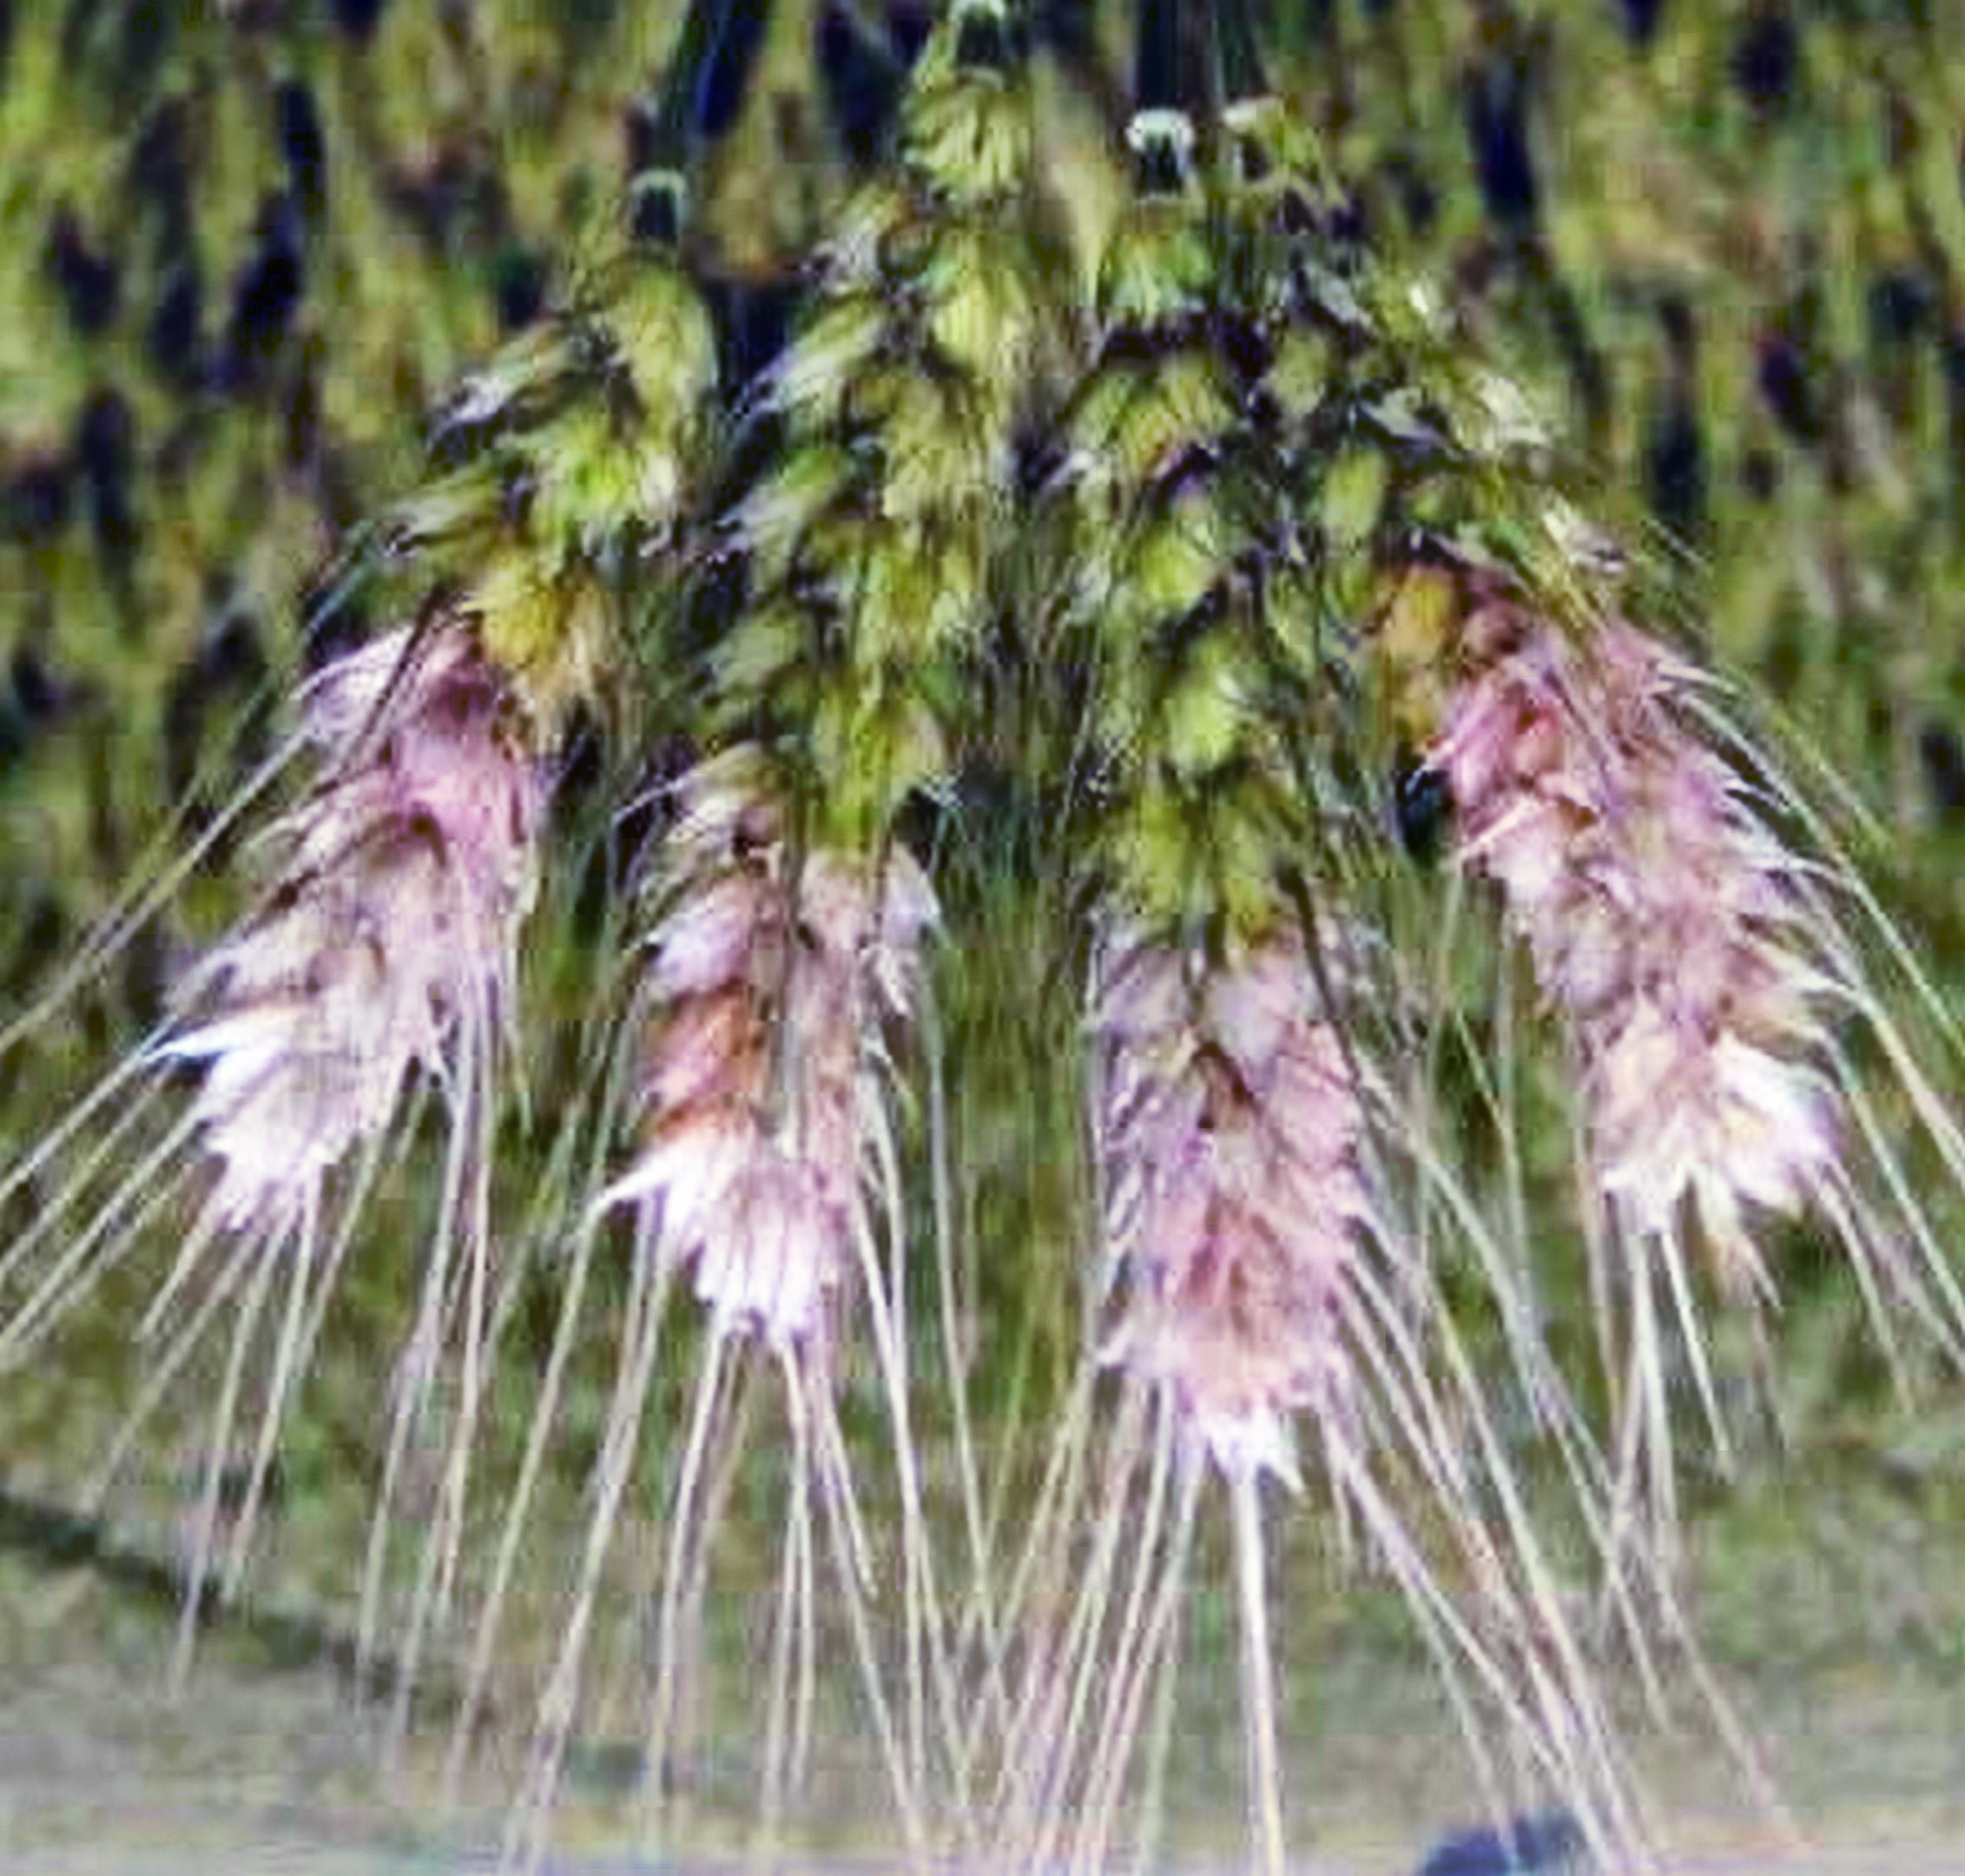Wheat scab: (70, 160, 681, 1230), (1033, 172, 1379, 1427)
